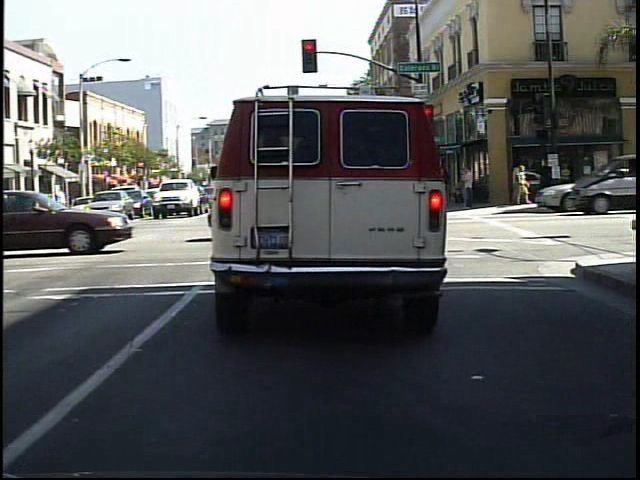person: (511, 163, 531, 208), (535, 155, 556, 190)
